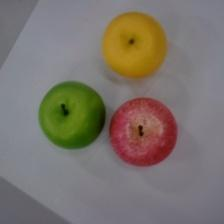green: (39, 81, 106, 150)
red: (110, 97, 177, 167)
yellow: (102, 12, 168, 78)
